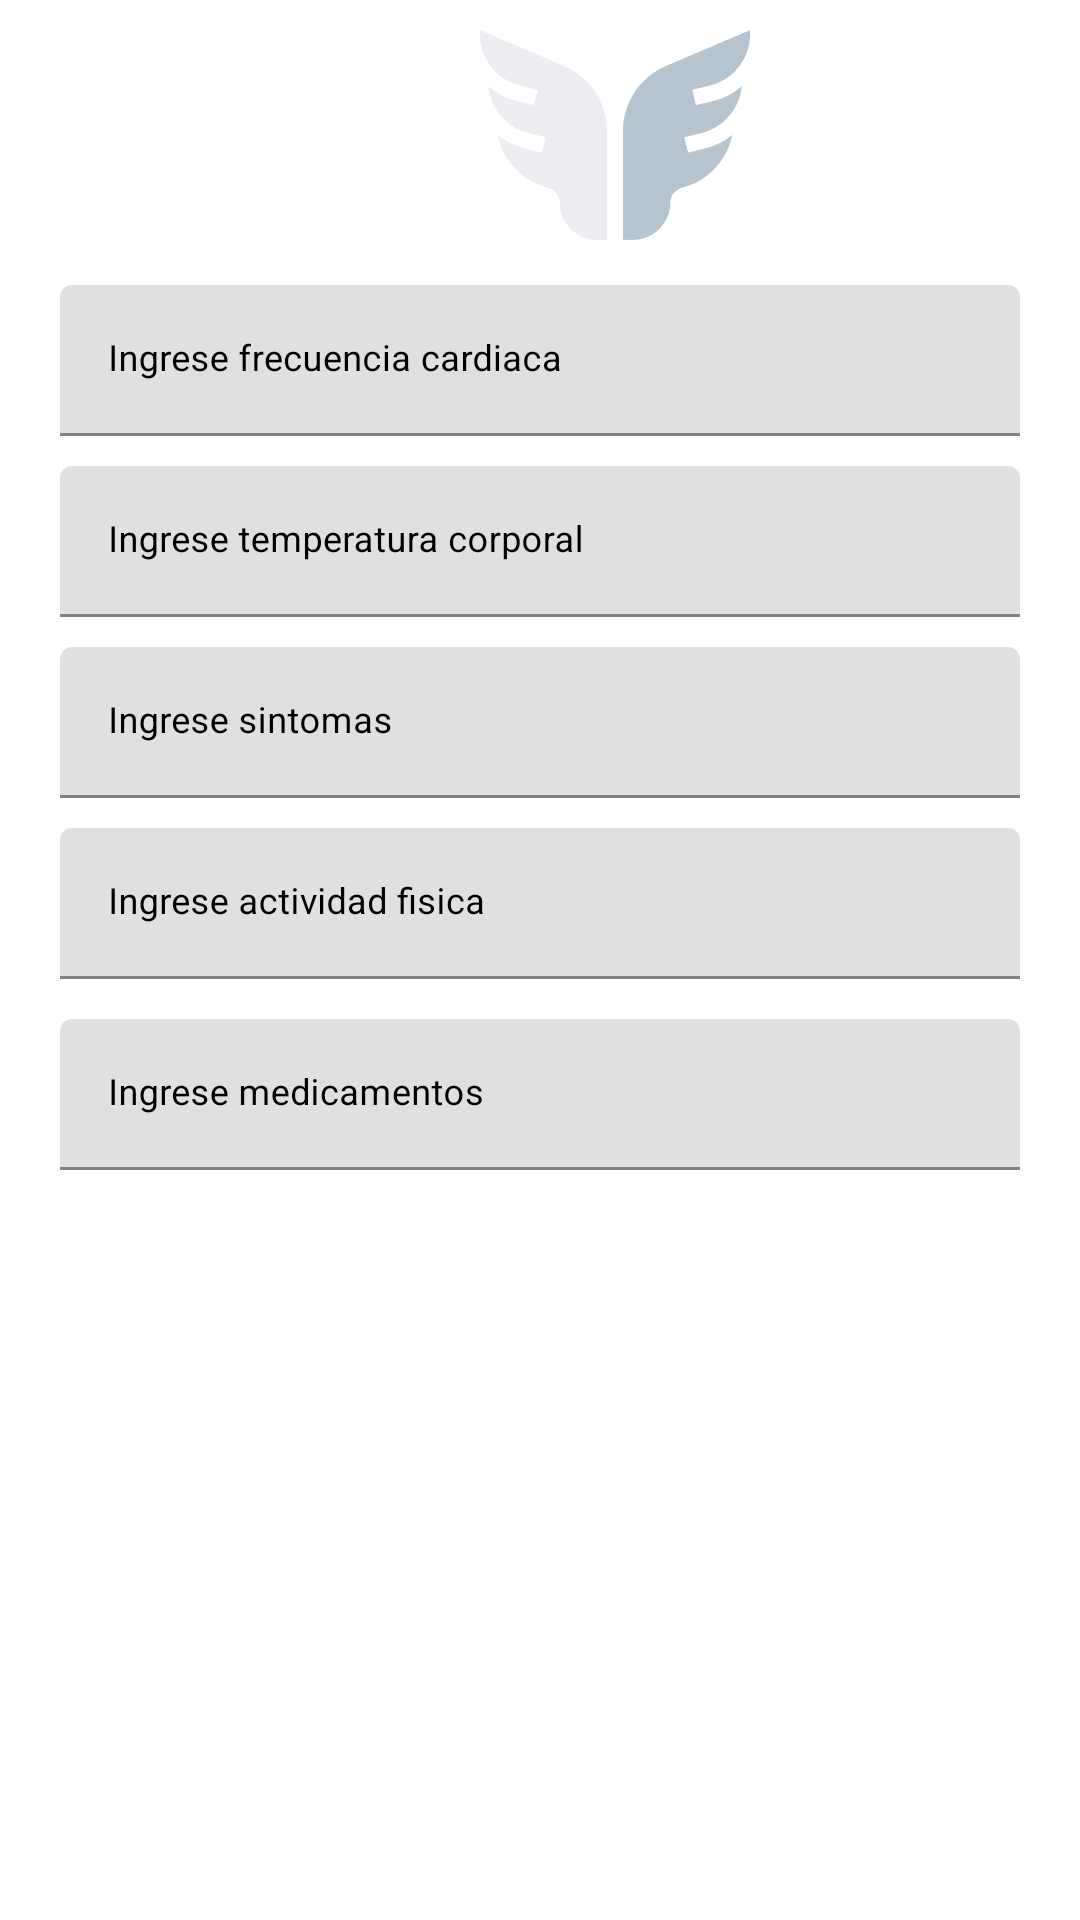

Locate icon controls on the screen. Image size 1080px x 1920px, boxes as (x1, y1, x2, y2).
alas: (623, 30, 750, 240)
